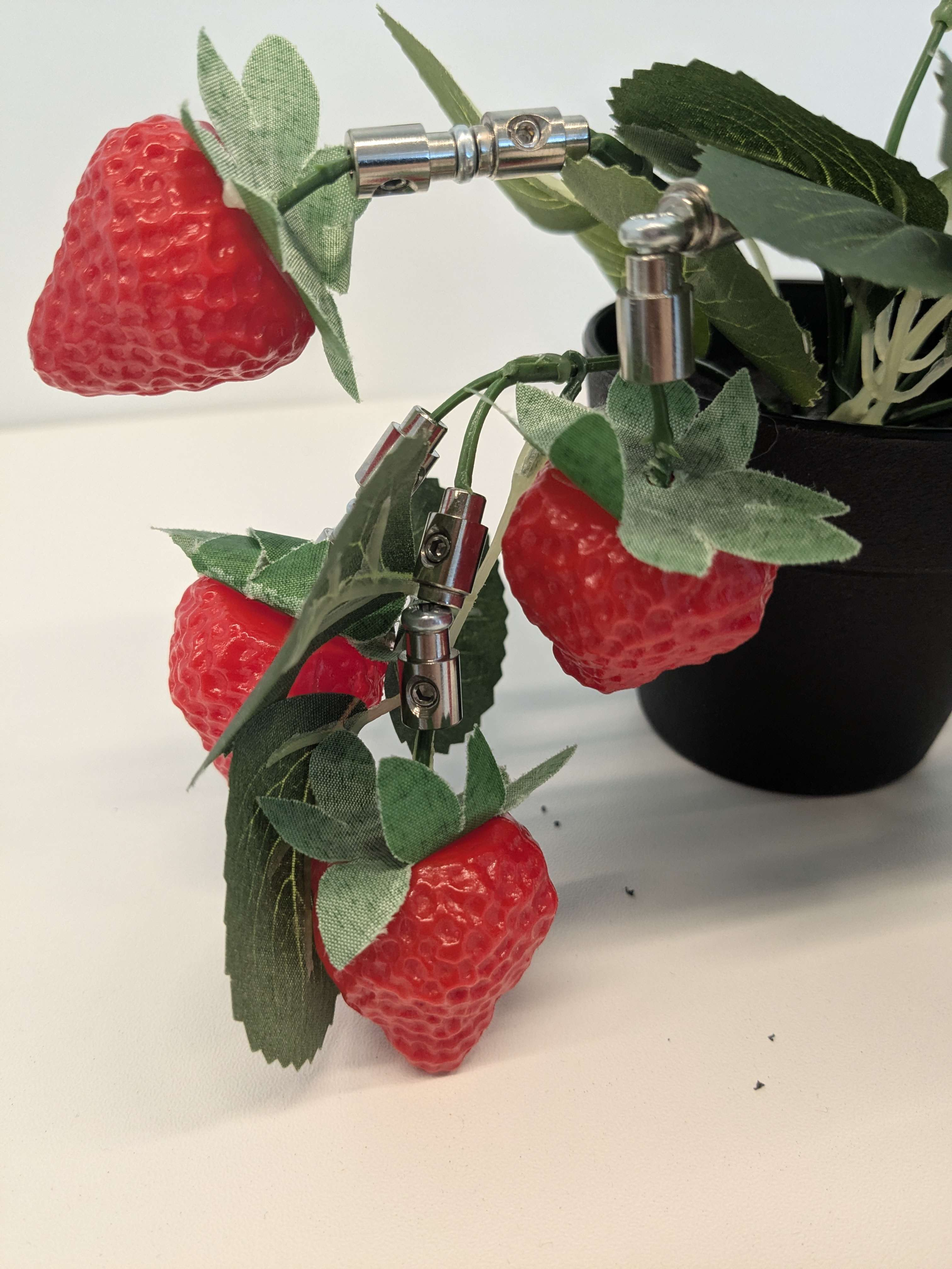Strawberry: (479, 395, 819, 725), (2, 99, 335, 412), (141, 487, 410, 790), (293, 817, 574, 1088)
